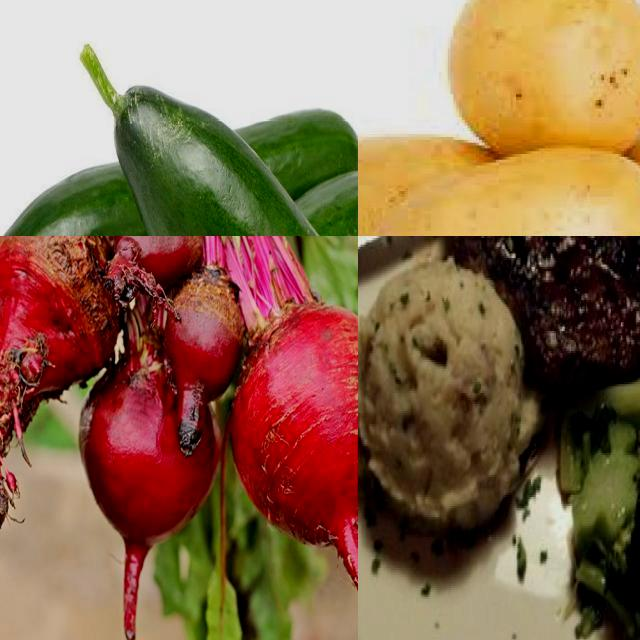beet: (80, 360, 221, 640), (230, 305, 359, 605), (1, 237, 114, 402), (167, 278, 245, 410), (122, 237, 204, 278)
cucumber: (1, 110, 359, 237), (113, 82, 359, 237), (70, 166, 359, 237)
potato: (449, 1, 640, 151), (359, 152, 640, 237), (359, 137, 498, 237)
